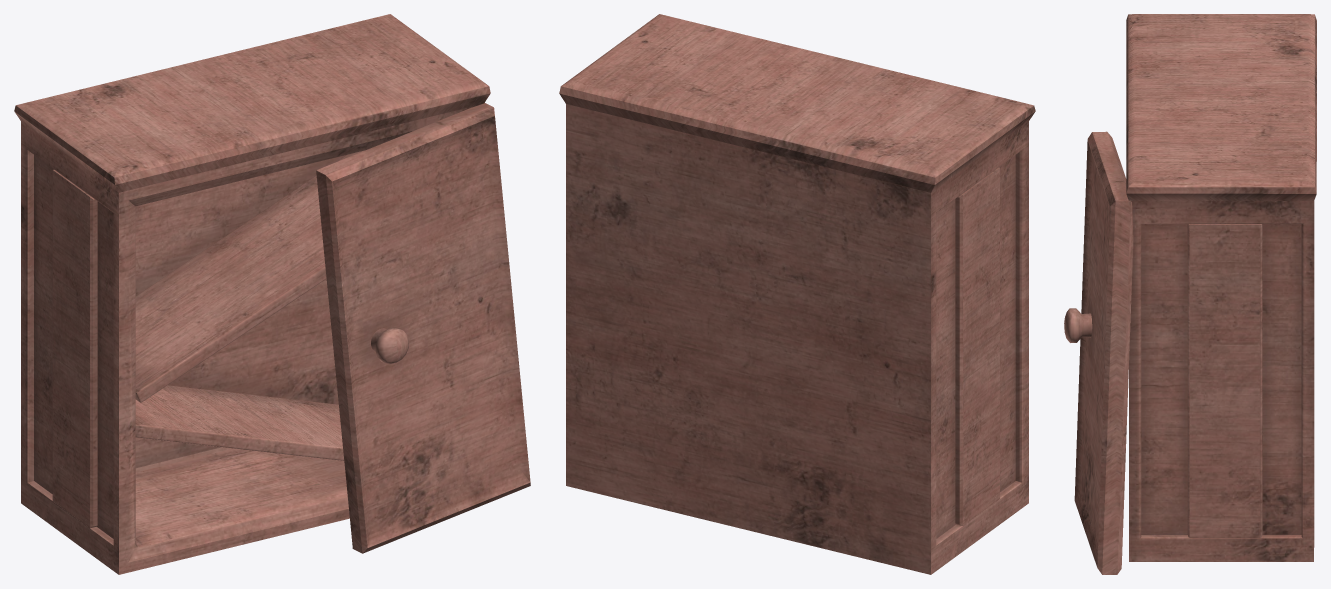
File: cabinet_decayed.glb
3 renders of one model, left to right at view 1: azimuth 30°, elevation 25°; view 2: azimuth 150°, elevation 25°; view 3: azimuth 270°, elevation 25°, orthographic. The views are drawn at different scales.
Visible parts, largest first — view 1: defaultMaterial.004, defaultMaterial.006, defaultMaterial.003, defaultMaterial.001, defaultMaterial.002, defaultMaterial.005; view 2: defaultMaterial.004, defaultMaterial.001; view 3: defaultMaterial.004, defaultMaterial, defaultMaterial.006, defaultMaterial.005.
Boxes of the visible parts, <box> form: defaultMaterial.004: <box>14,14,490,574</box>; defaultMaterial.006: <box>316,103,530,553</box>; defaultMaterial.003: <box>135,150,364,402</box>; defaultMaterial.001: <box>52,169,97,528</box>; defaultMaterial.002: <box>135,385,344,460</box>; defaultMaterial.005: <box>371,327,408,364</box>; defaultMaterial.004: <box>559,14,1035,574</box>; defaultMaterial.001: <box>955,167,999,525</box>; defaultMaterial.004: <box>1126,14,1316,561</box>; defaultMaterial: <box>1187,224,1262,537</box>; defaultMaterial.006: <box>1074,131,1133,574</box>; defaultMaterial.005: <box>1064,308,1092,342</box>.
Bounding box in the file's own units: 2 × 1.97 × 1.15.
1 material, 1 textured.
